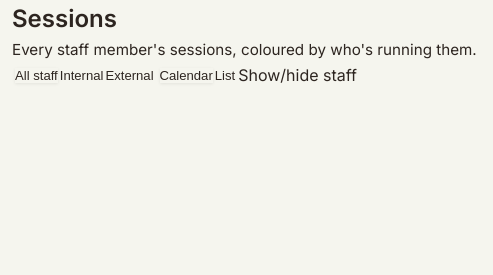
Test: AgencySessionsPage — stub (offline client) sessions › shows a staff member's stub-client session alongside their real ones (regression)
Click the tab "List" at (225, 76), box [215,68,235,83]
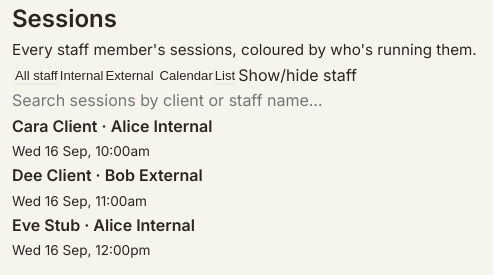
Now the text "Cara Client · Alice Internal" is shown, box [12,116,212,136]
Now the text "Dee Client · Bob External" is shown, box [12,165,203,185]
Now the text "Eve Stub · Alice Internal" is shown, box [12,215,195,235]
